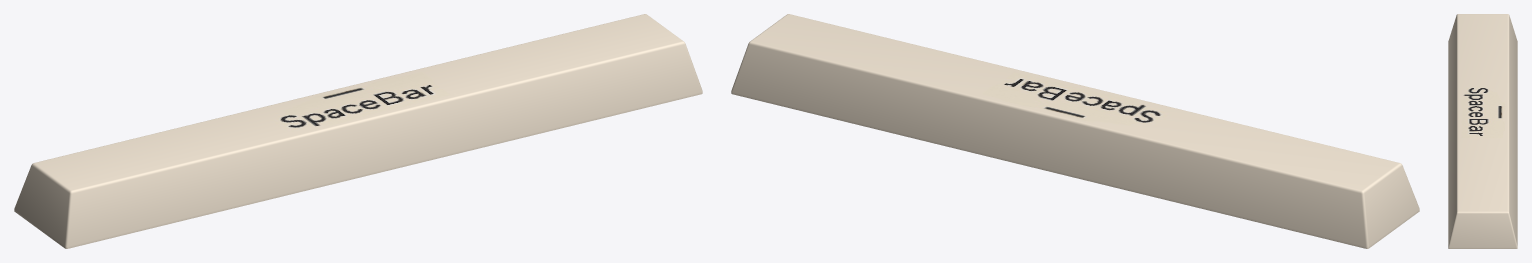
Rendered from SpaceBar.fbx.
The picture shows the model from 3 angles, left to right: view 1: azimuth 30°, elevation 25°; view 2: azimuth 150°, elevation 25°; view 3: azimuth 270°, elevation 25°; orthographic projection. The views are drawn at different scales.
Parts seen in each view (by area): view 1: Box001; view 2: Box001; view 3: Box001.
Boxes of the visible parts, x1,y1,x2,y2 form: Box001: (14, 14, 702, 248); Box001: (731, 14, 1419, 248); Box001: (1448, 14, 1517, 248).
Size of the model in its own units: 110 by 8.27 by 15.75.
